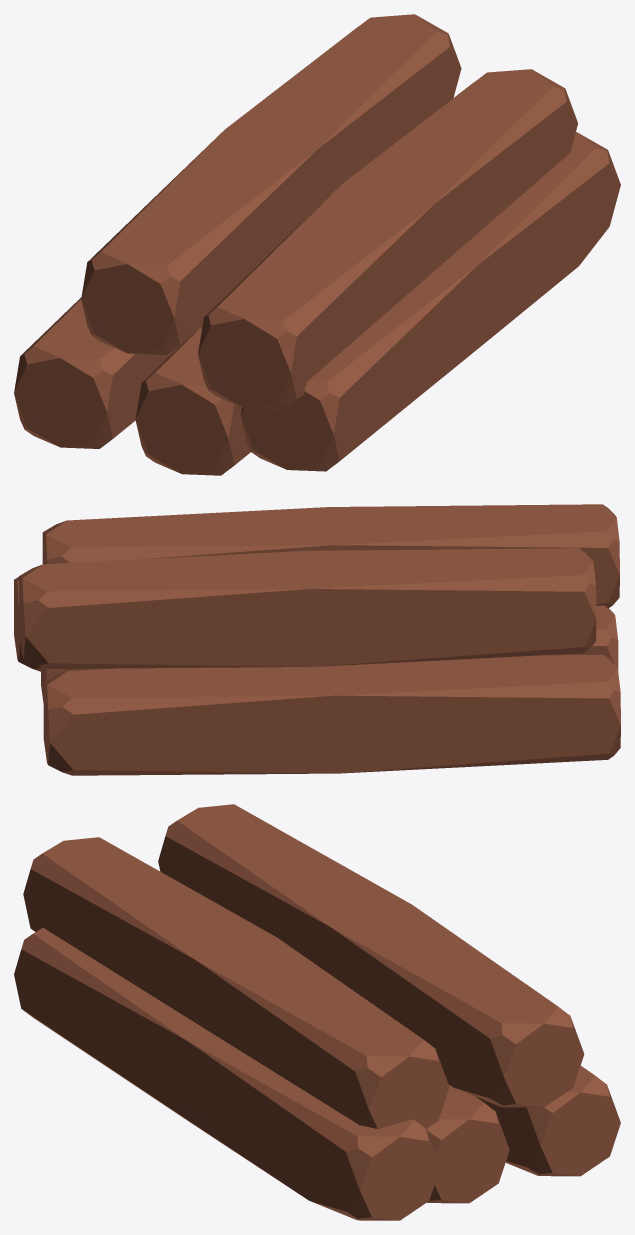
The model's file is wood.glb.
The picture shows the model from 3 angles, top to bottom: view 1: azimuth 30°, elevation 25°; view 2: azimuth 150°, elevation 25°; view 3: azimuth 270°, elevation 25°; orthographic projection. The views are drawn at different scales.
Parts seen in each view (by area): view 1: Cube; view 2: Cube; view 3: Cube.
Part boxes in pixels (x1,y1,x2,y2): Cube: [14, 14, 620, 475]; Cube: [14, 504, 620, 775]; Cube: [14, 804, 620, 1220].
Bounding box in the file's own units: 0.9436 × 0.2581 × 0.8109.
